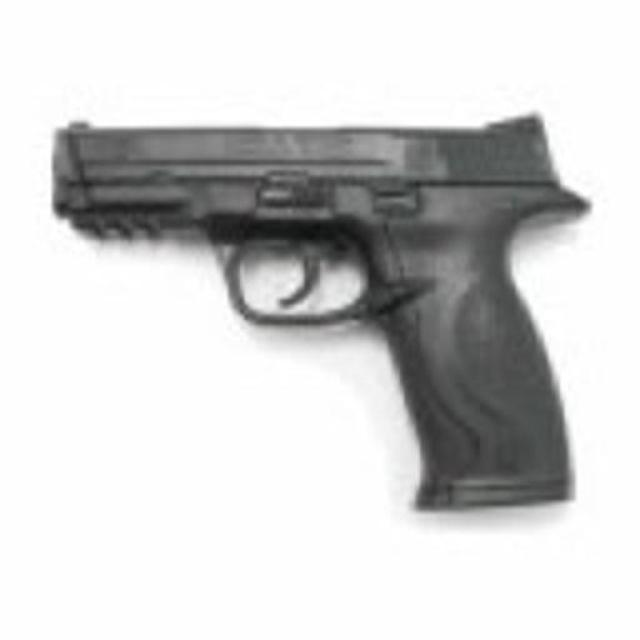pistol: (47, 116, 595, 506)
